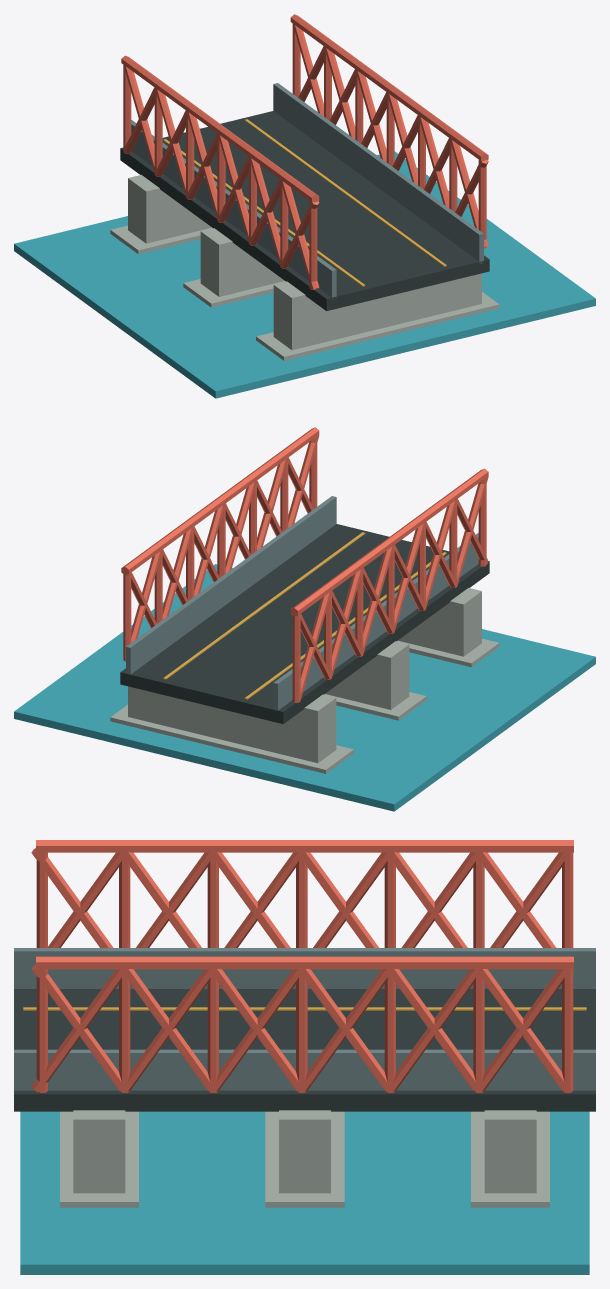
The model's file is bridge_lv1.glb.
3 views of the same model, one above another, from view 1: azimuth 30°, elevation 25°; view 2: azimuth 150°, elevation 25°; view 3: azimuth 270°, elevation 25° (orthographic). The views are drawn at different scales.
Parts seen in each view (by area): view 1: rough, glossy, metallic; view 2: rough, glossy, metallic; view 3: rough, glossy, metallic.
Part boxes in pixels (<box>): rough: <box>110,14,499,360</box>; glossy: <box>14,151,595,398</box>; metallic: <box>131,83,483,297</box>; rough: <box>110,427,499,773</box>; glossy: <box>14,564,595,811</box>; metallic: <box>126,496,478,710</box>; rough: <box>14,840,595,1207</box>; glossy: <box>20,1111,589,1274</box>; metallic: <box>14,948,595,1090</box>.
Bounding box in the file's own units: 9.8 × 4.28 × 9.2.
